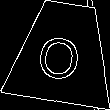O_N: (38, 24, 87, 81)
